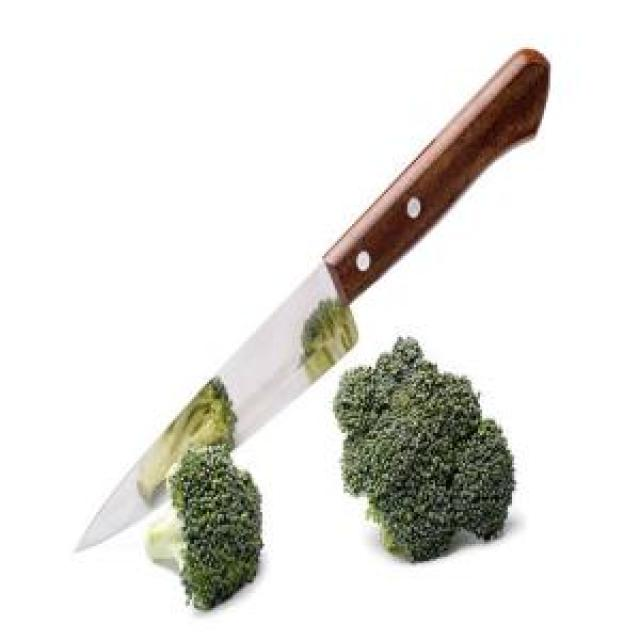knife: (77, 45, 551, 552)
